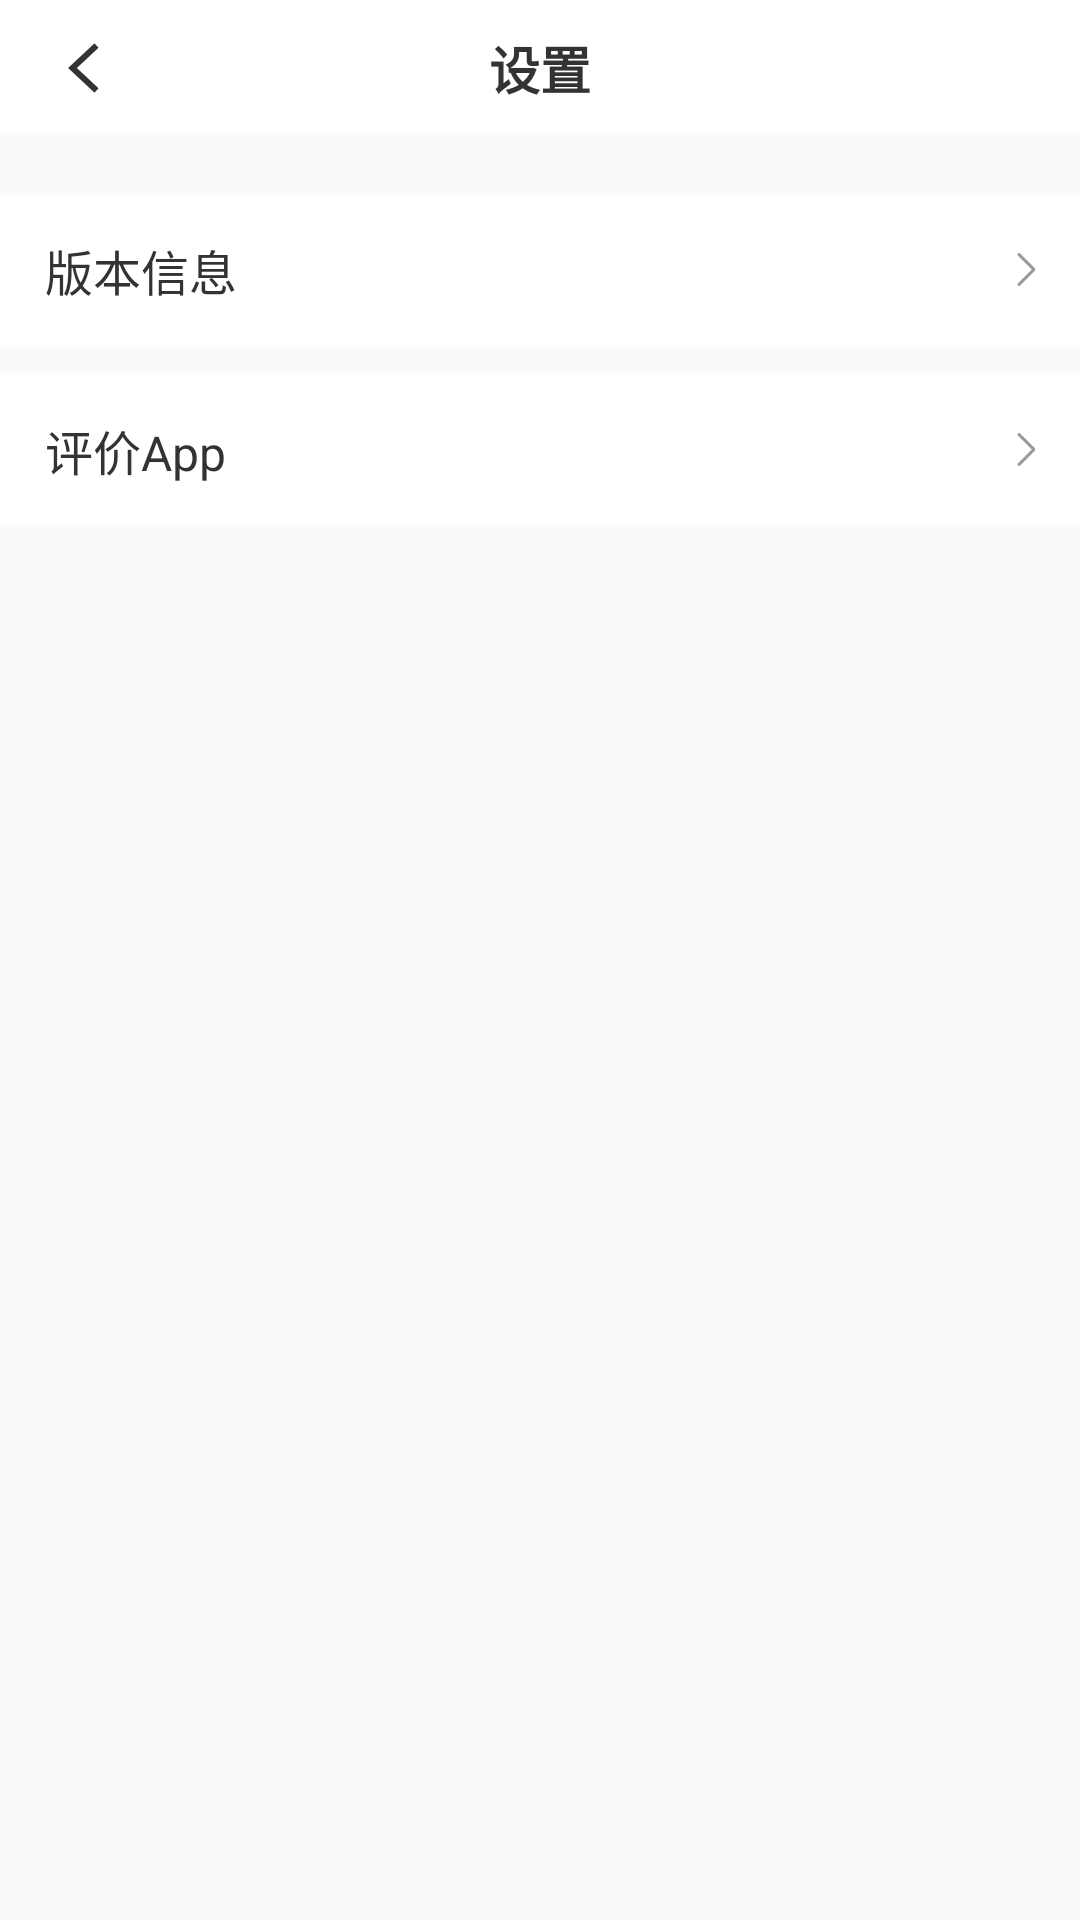

Icon click points for this 1080 x 1920 phone screenshot, format [x,y]:
back: [83,68]
